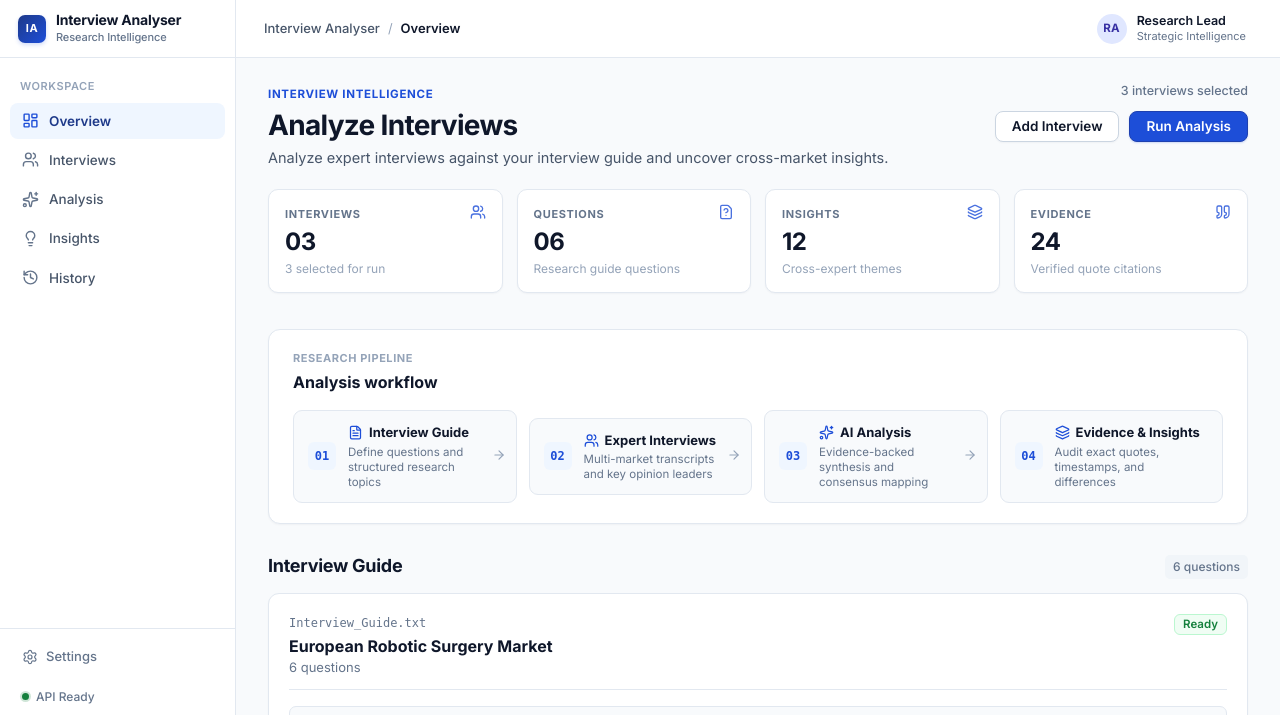
Test case: Interview Analyzer › renders cross-expert themes
The width and height of the screenshot is (1280, 715).
Click the button "Run Analysis" at coordinates (1189, 127), box [1130,111,1248,142]
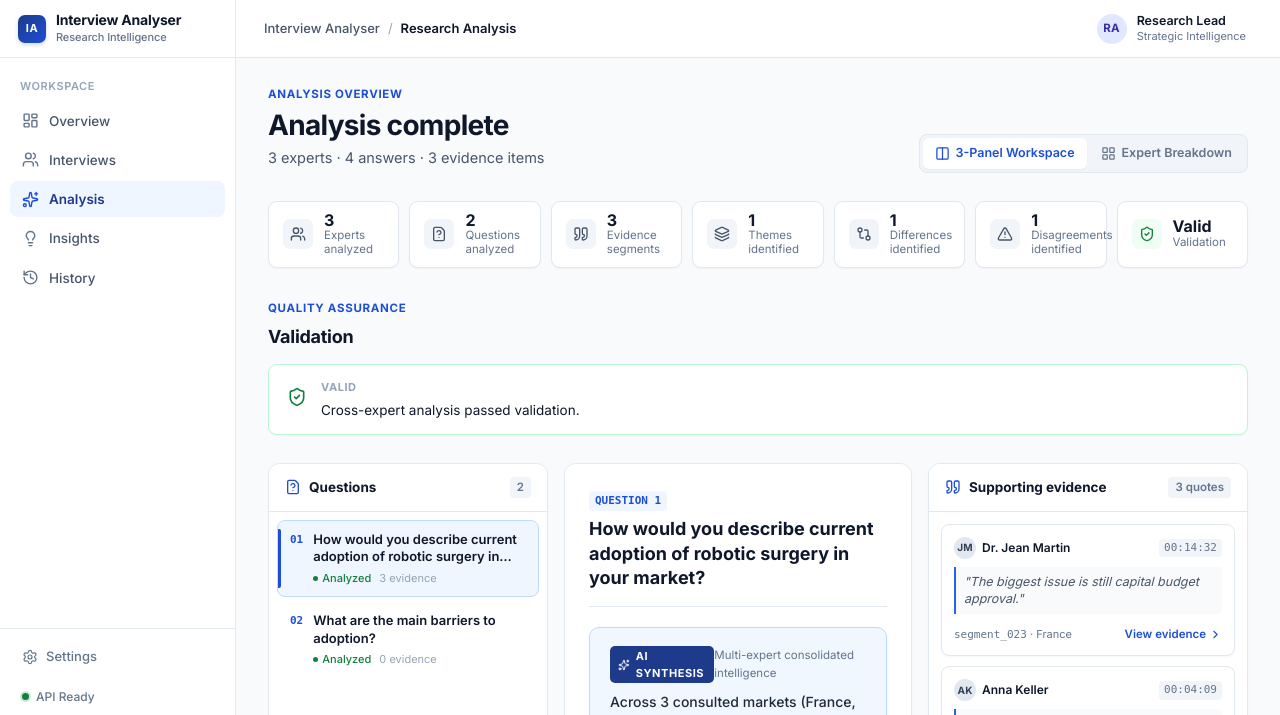
Expected: the heading "Analysis complete" is shown, [268,109,544,143]
Click the link "Insights" at coordinates (61, 238), box [22,230,100,247]
(page scrolled)
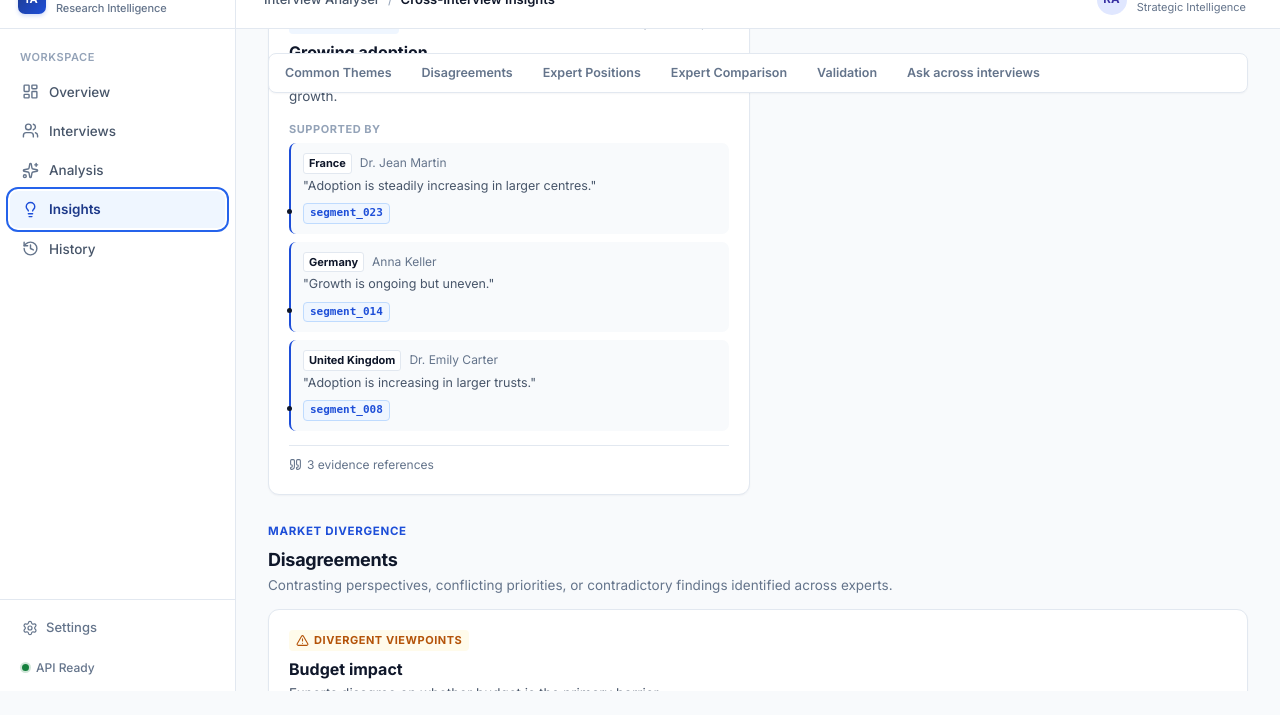
Expected: the text "United Kingdom" is shown, [303,350,401,371]
Expected: the heading "Growing adoption" is shown, [289,42,428,62]
Expected: the text "Experts across multiple markets described continued adoption growth." is shown, [289,68,729,107]
